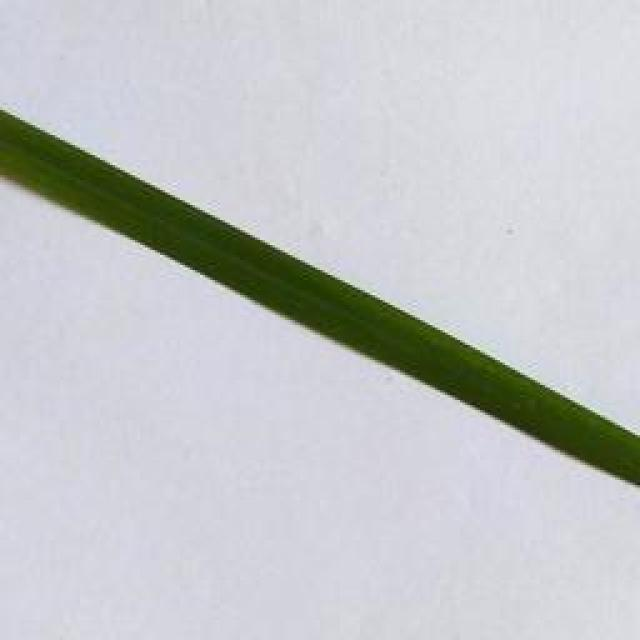Healthy-Plant: (2, 112, 640, 485)
